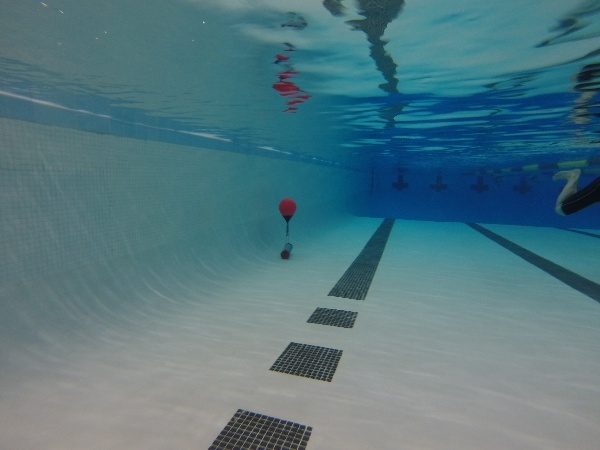buoy_red: (277, 196, 297, 225)
